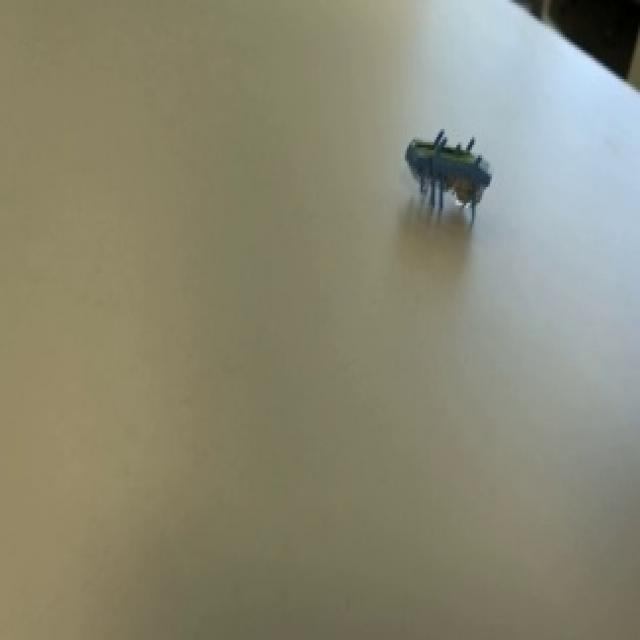3_NanoBug_Celeste: (403, 110, 512, 267)
